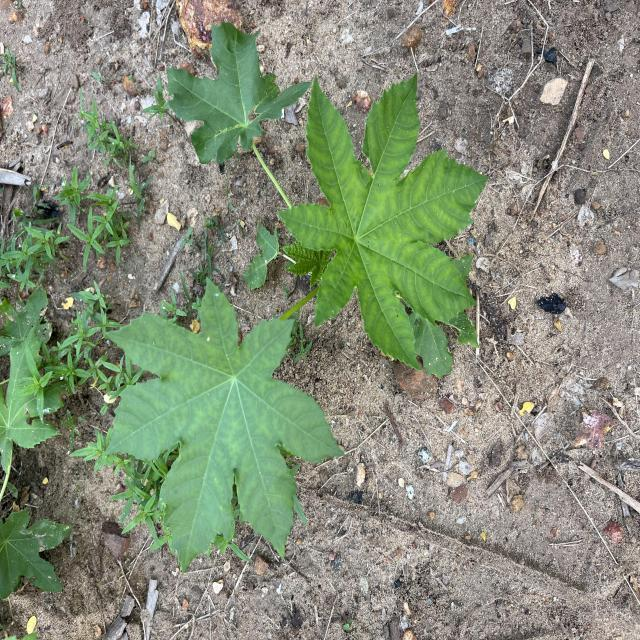Ricinus communis linn: (103, 274, 348, 577), (274, 66, 492, 374)
